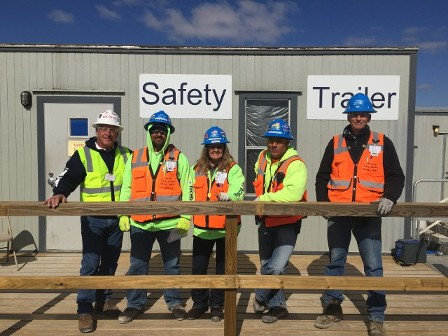epi: (316, 91, 410, 336), (55, 108, 122, 335), (126, 110, 190, 321), (248, 116, 312, 324), (187, 124, 241, 323)
